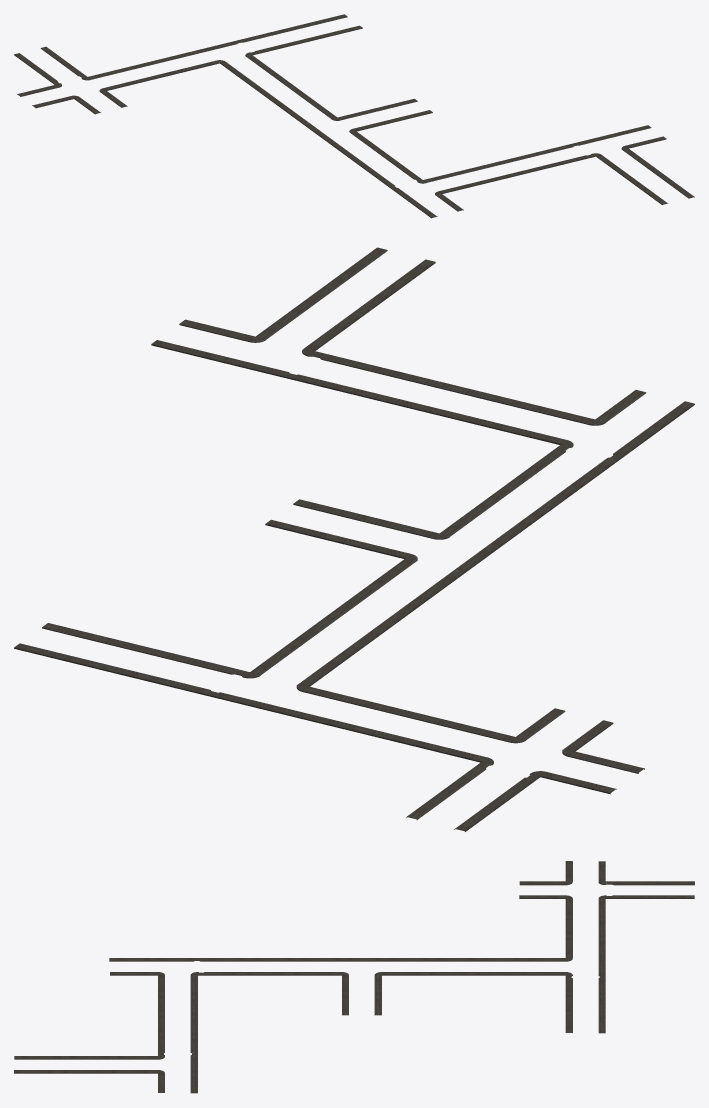
The model's file is road01.fbx.
The picture shows the model from 3 angles, top to bottom: view 1: azimuth 30°, elevation 25°; view 2: azimuth 150°, elevation 25°; view 3: azimuth 270°, elevation 25°; orthographic projection. The views are drawn at different scales.
Visible parts, largest first — view 1: road01; view 2: road01; view 3: road01.
Part boxes in pixels (<box>): road01: <box>14,14,694,218</box>; road01: <box>14,247,694,831</box>; road01: <box>14,861,694,1093</box>.
Bounding box in the file's own units: 12562 × 18.14 × 15580.
Materials: 1 (1 with a texture image).
